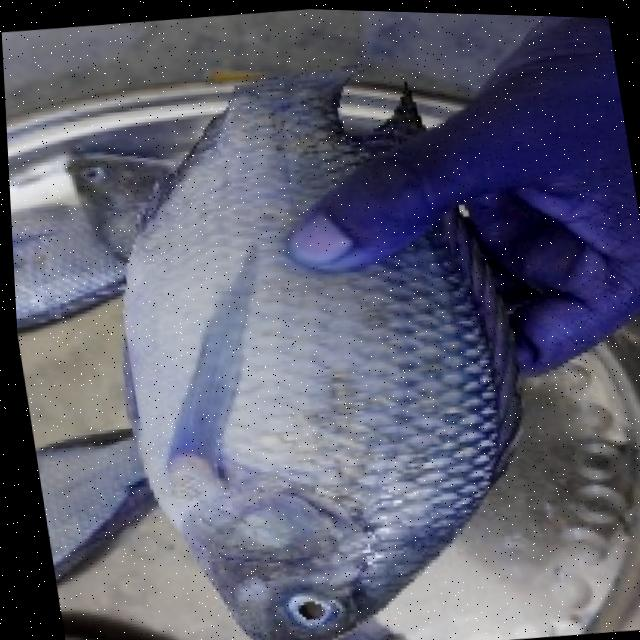Fresh: (79, 263, 575, 640)
